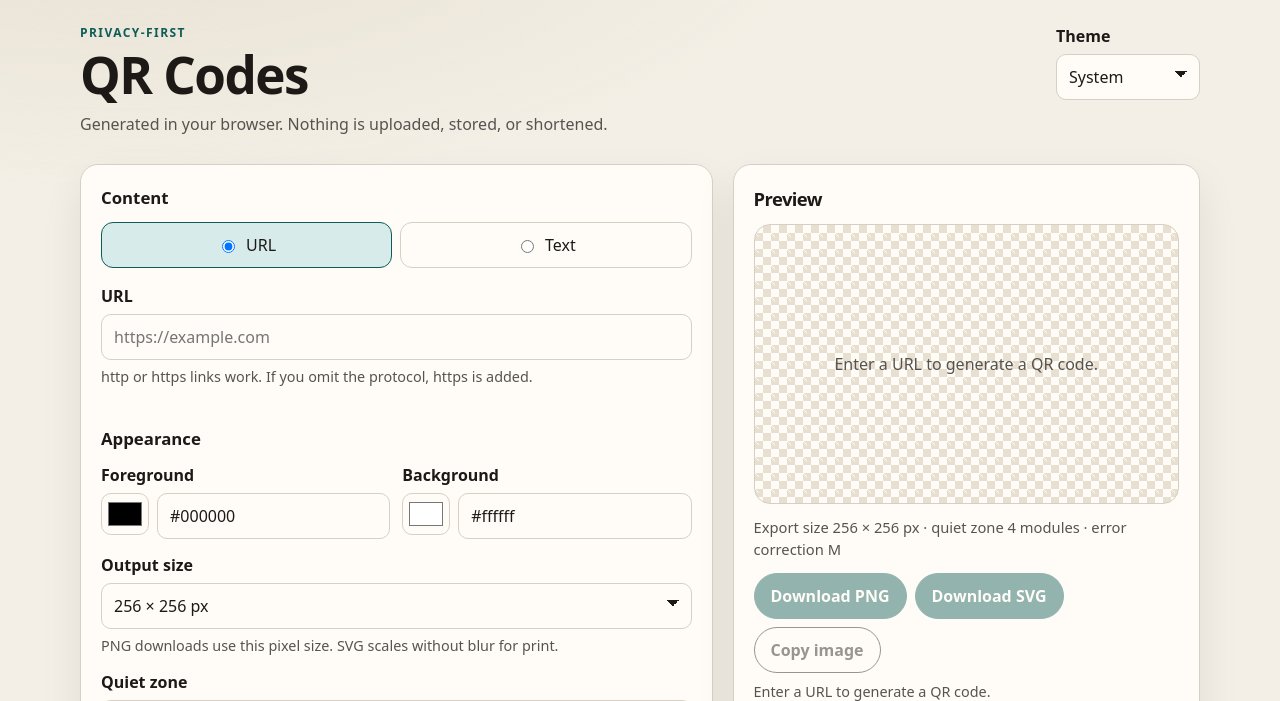
it: QR Codes app › explains malformed URLs next to the field
This screenshot has width=1280, height=701.
Type "javascript:alert(1)" into the field labelled "URL" at [396, 337], box x1=101 y1=314 x2=692 y2=360
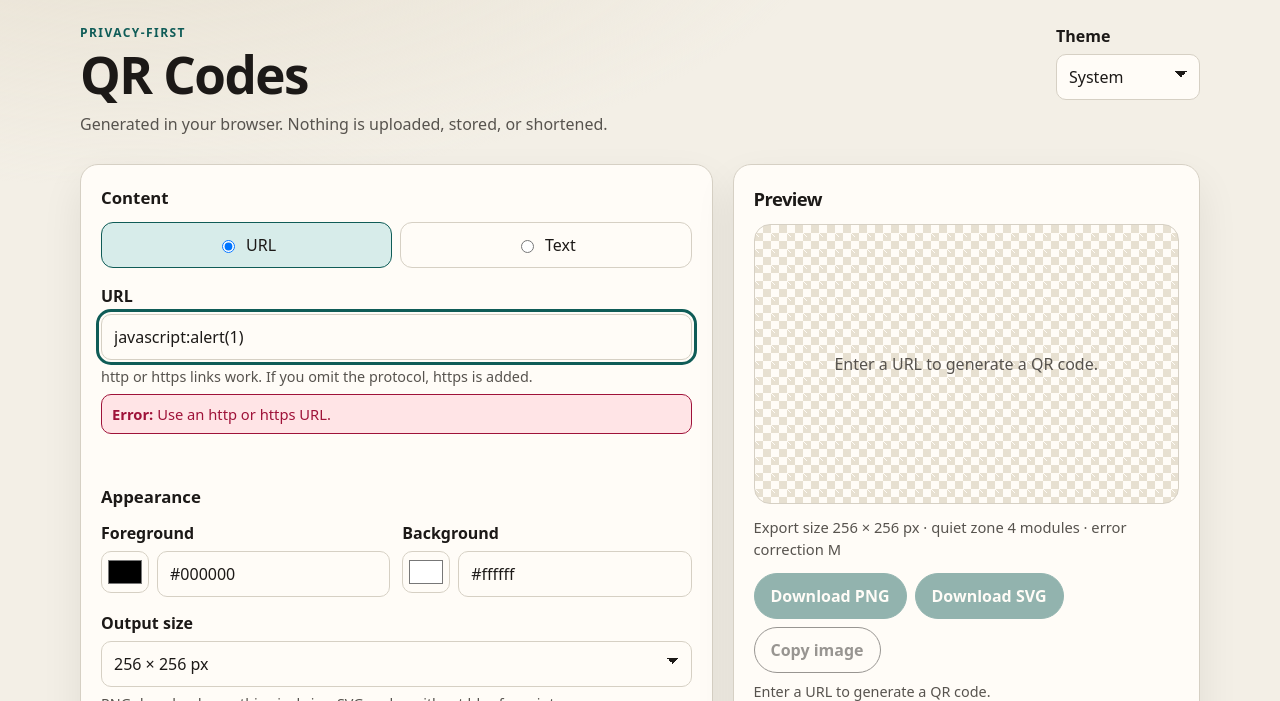
Expected: the button "Download PNG" is disabled, x1=754 y1=572 x2=906 y2=618
Expected: the message "Use an http or https URL." is shown, x1=101 y1=394 x2=692 y2=434
